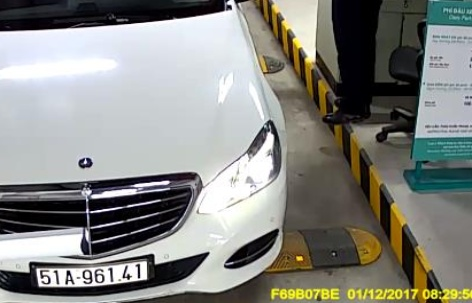plate: (33, 259, 162, 290)
